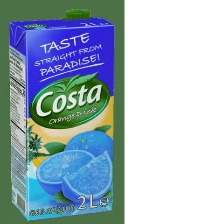carton: (5, 5, 118, 223)
